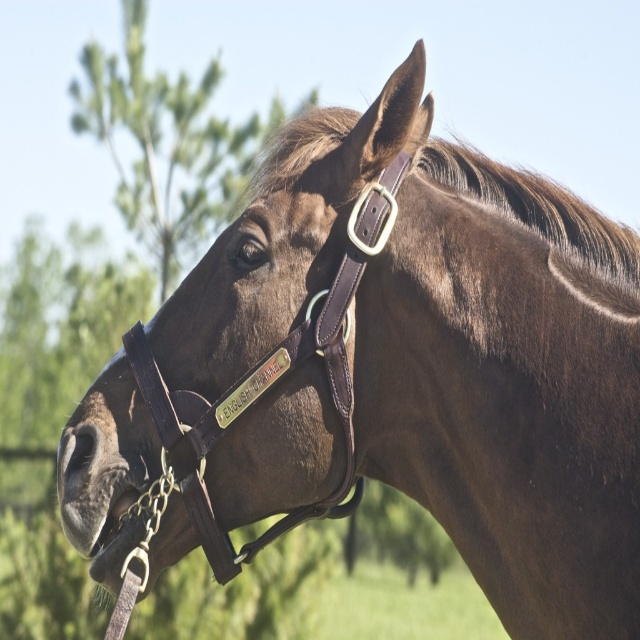Horse: (54, 35, 640, 639)
